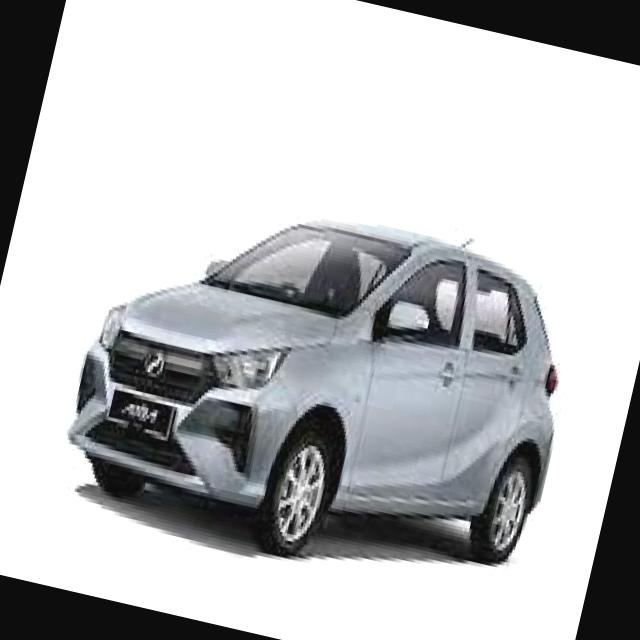PeroduaAxia: (48, 155, 594, 608)
